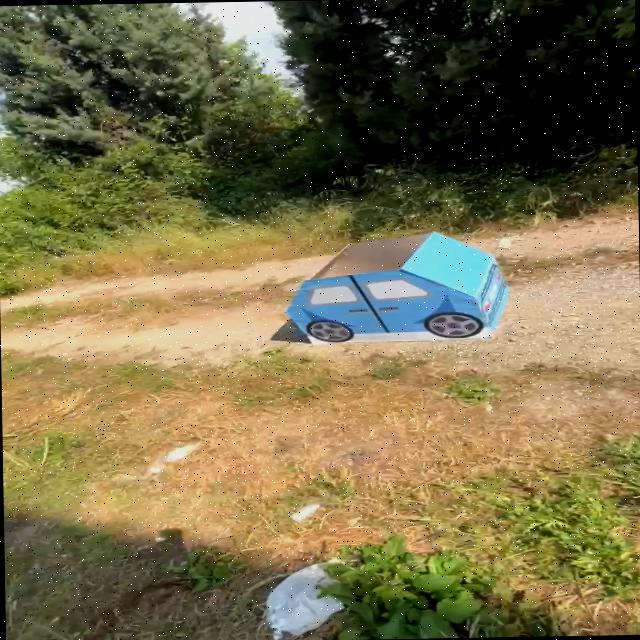blue_car: (277, 224, 523, 359)
